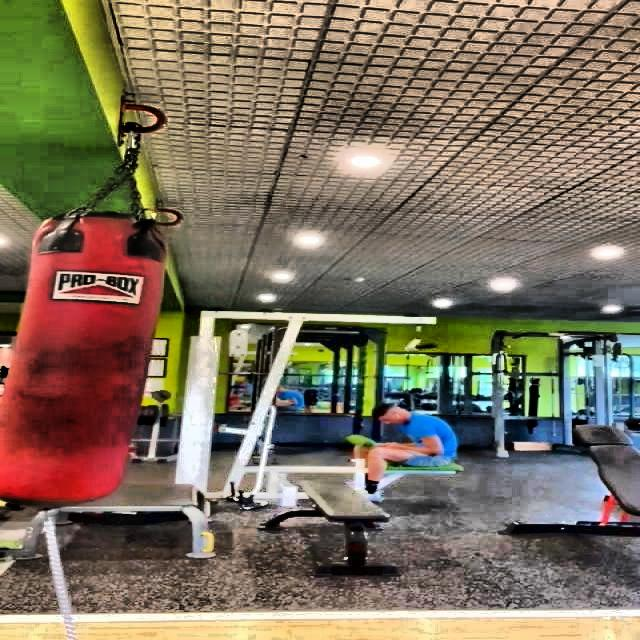boxing-bag: (4, 92, 170, 516)
